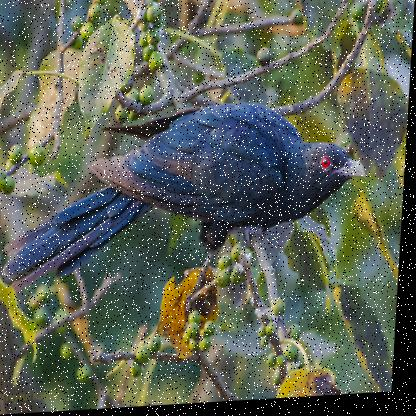Burung: (4, 99, 373, 281)
